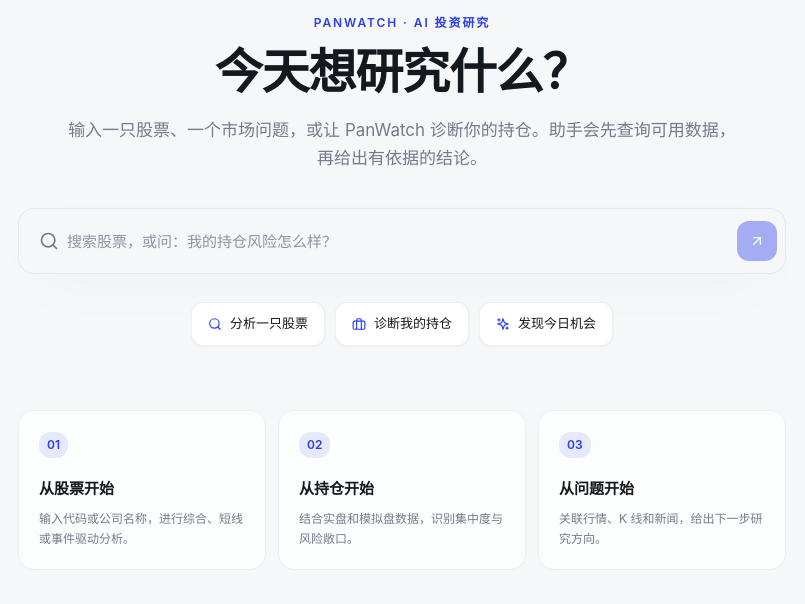
Scenario: AssistantWelcome › opens stock selection before starting a single-stock analysis
The image size is (805, 604).
Step 1. Click the button "分析一只股票" → point(258, 324), box x1=191 y1=302 x2=325 y2=346
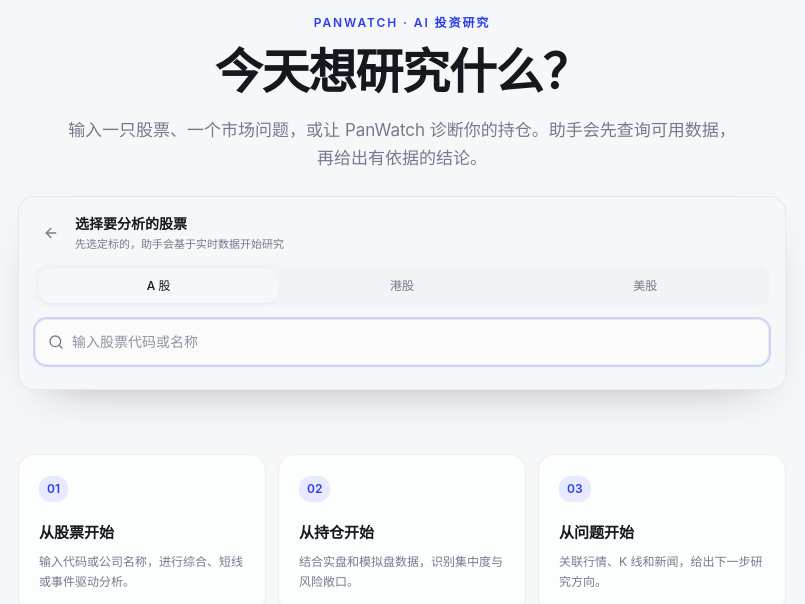
Expected: the search field named "搜索股票" is shown, x1=72 y1=320 x2=756 y2=364
Now the element with test id "assistant-stock-picker" is shown, box x1=18 y1=196 x2=786 y2=390
